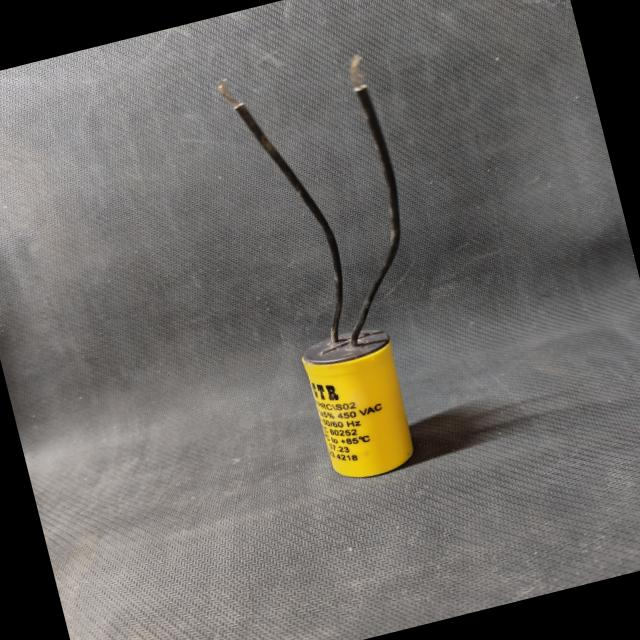capacitor: (218, 55, 413, 476)
